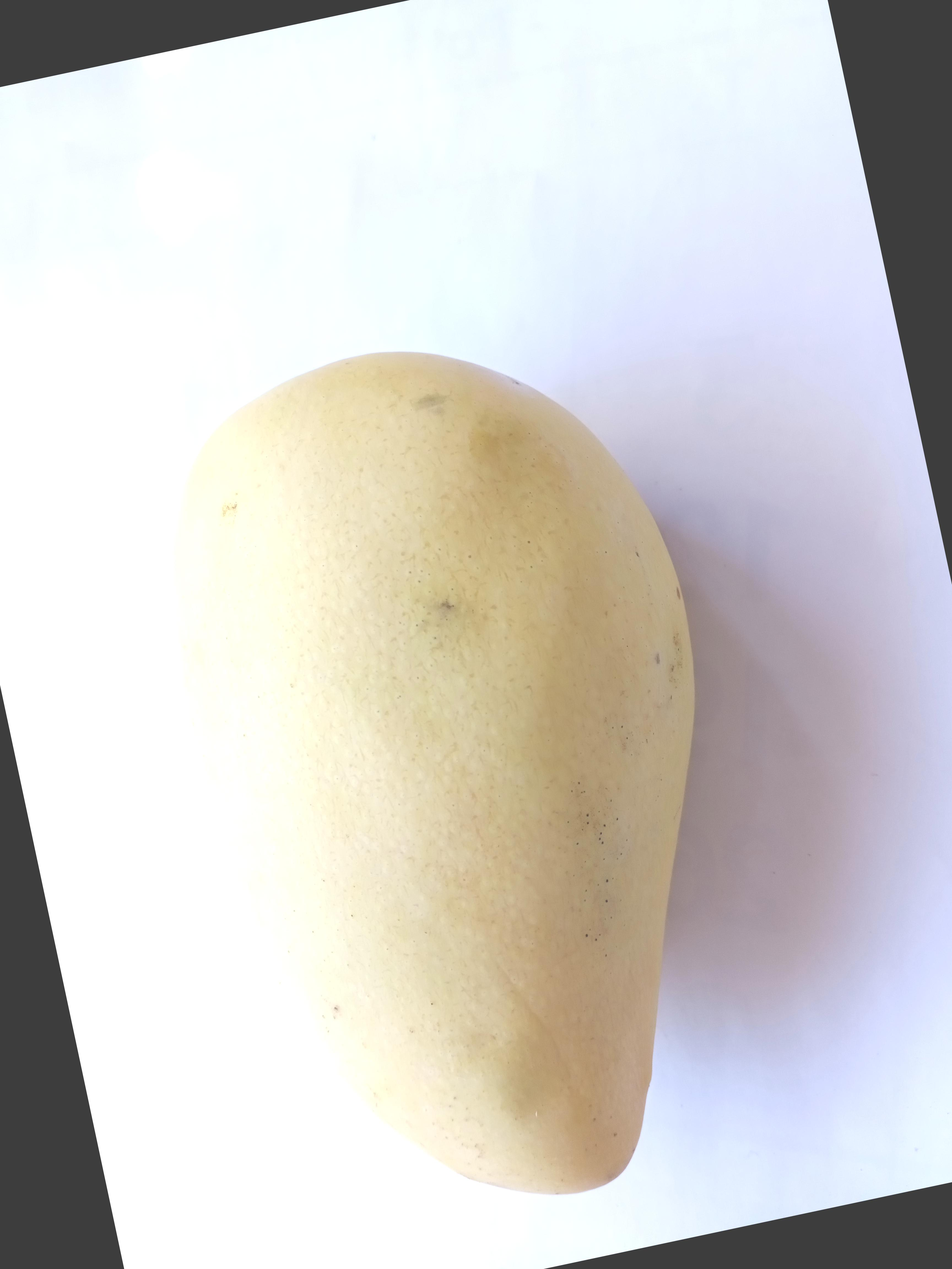Mango Ripe: (0, 377, 685, 1269)
